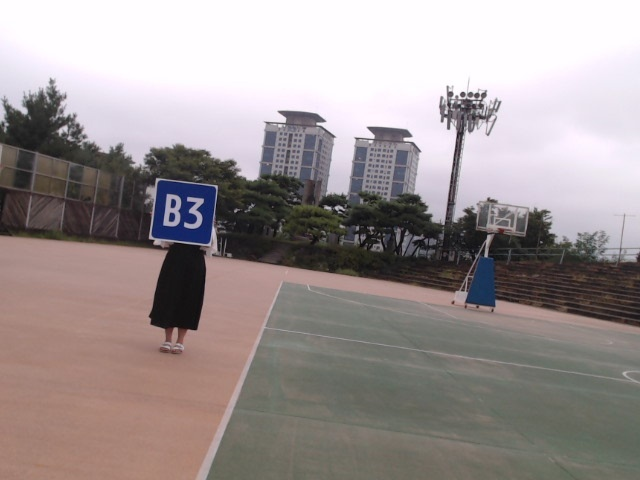delivery_b3: (151, 178, 218, 244)
